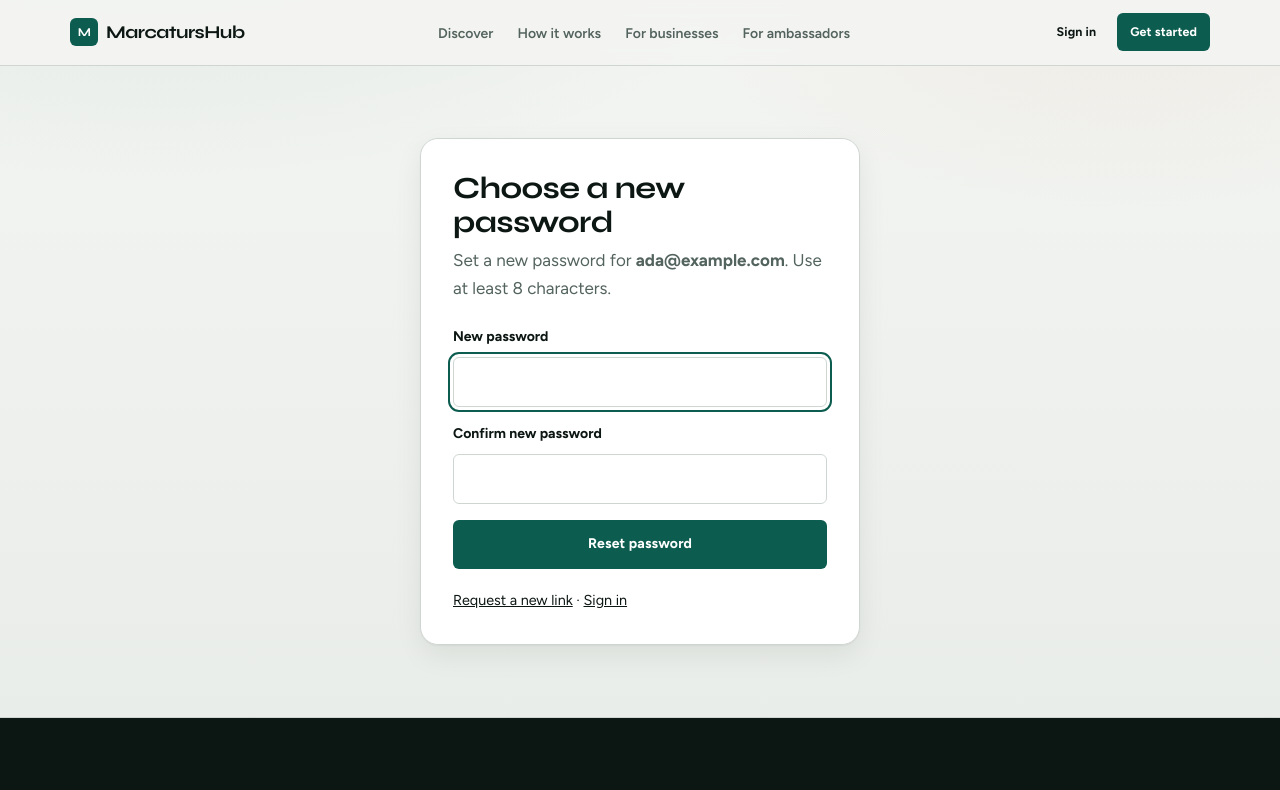
it: MH-FE-022 password reset › blocks submit when passwords do not match
Type "NewPass123!" into the password field labelled "New password".
click(640, 382); type("NewPass123!")  # box [453, 357, 827, 407]
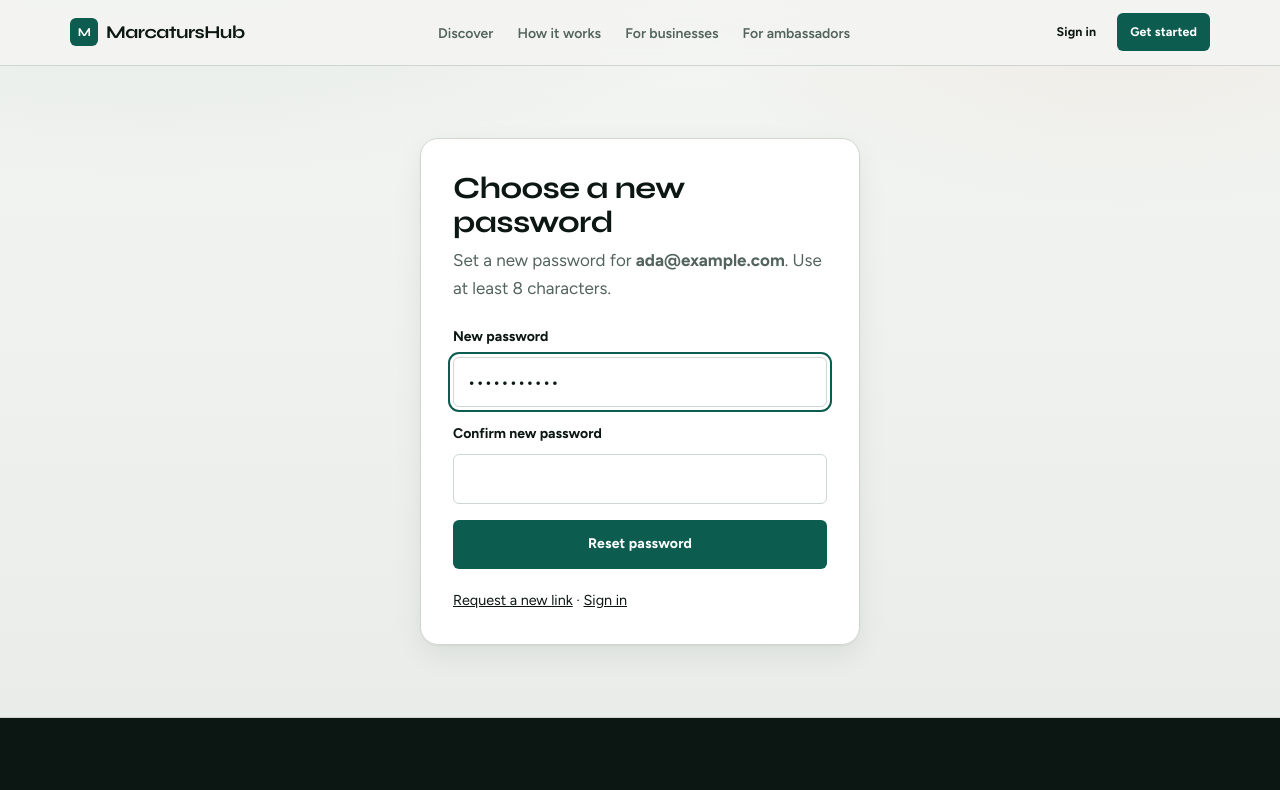
Type "Different123!" into the password field labelled "Confirm new password".
click(640, 479); type("Different123!")  # box [453, 454, 827, 504]
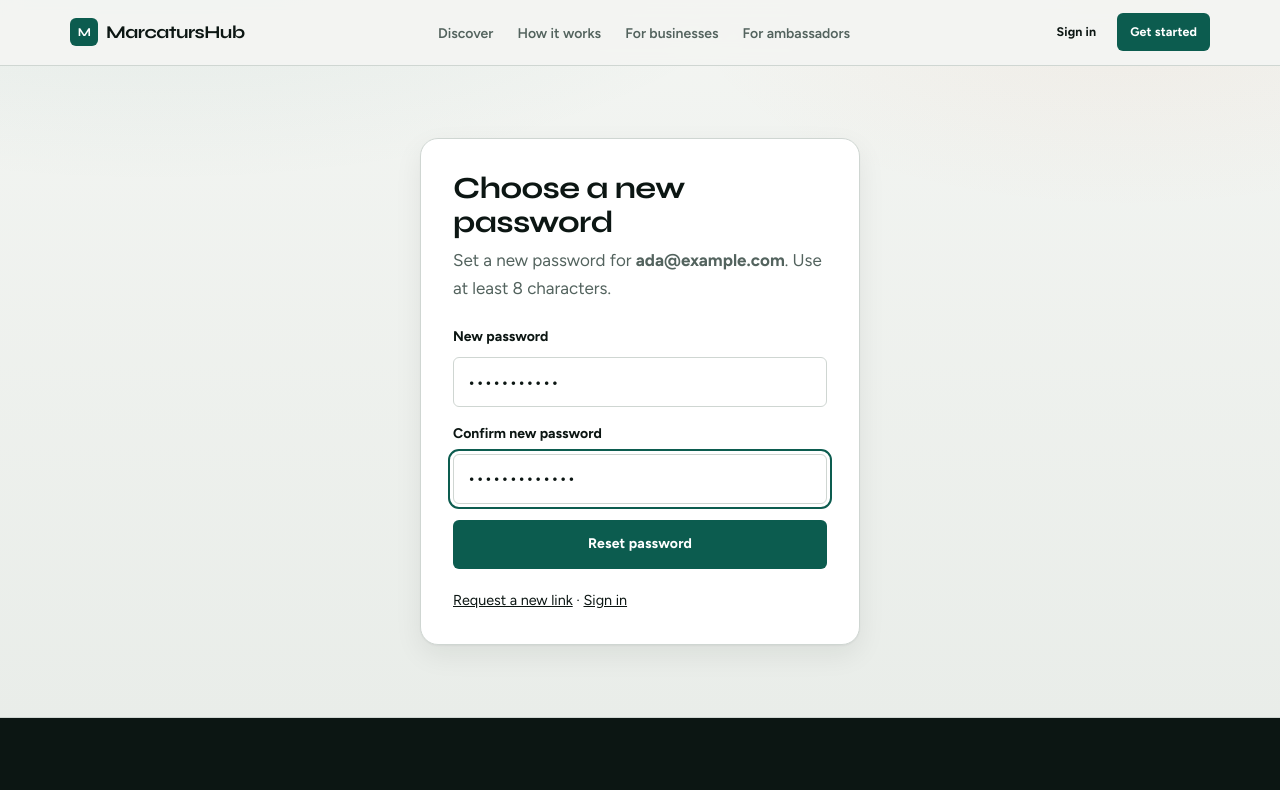
Click the button "Reset password".
click(640, 545)  # box [453, 520, 827, 569]
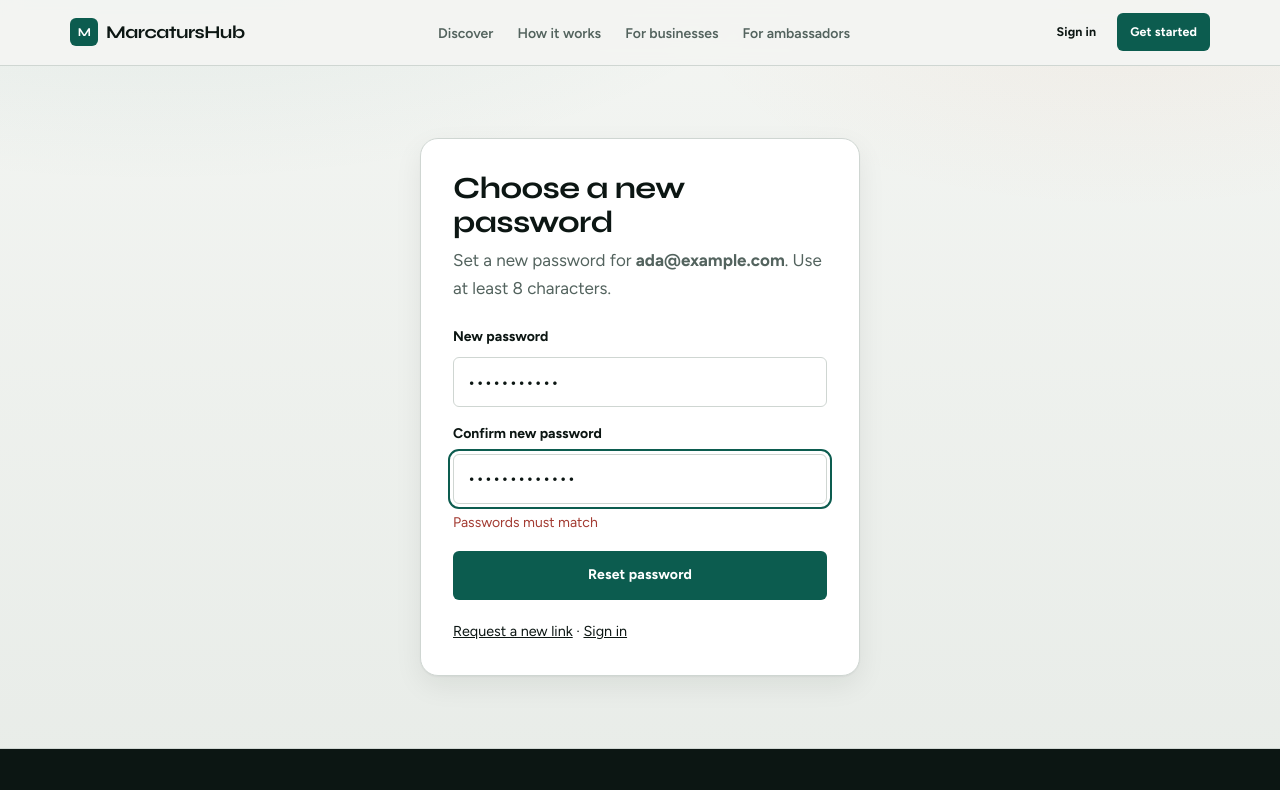
Check: the text "Passwords must match" is shown, box [453, 514, 598, 531]
